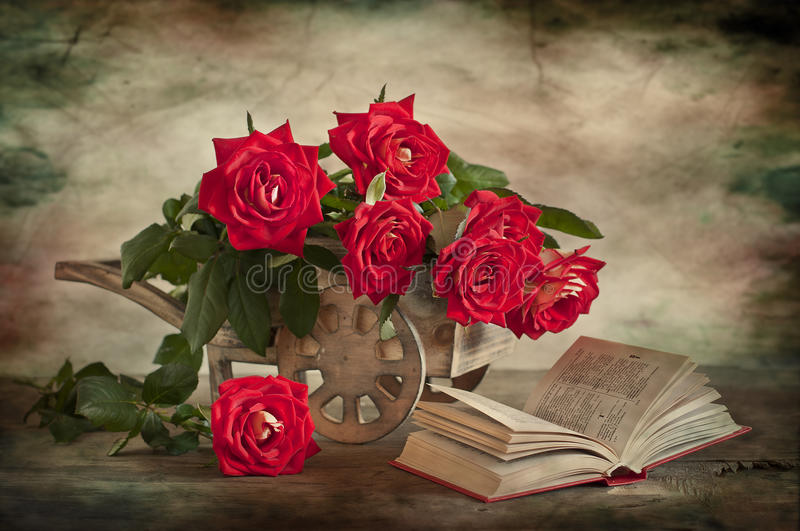RedRose: (199, 366, 318, 479), (200, 131, 319, 241), (341, 111, 453, 201), (334, 195, 434, 293), (444, 237, 529, 318), (510, 258, 588, 321), (463, 197, 560, 242)
